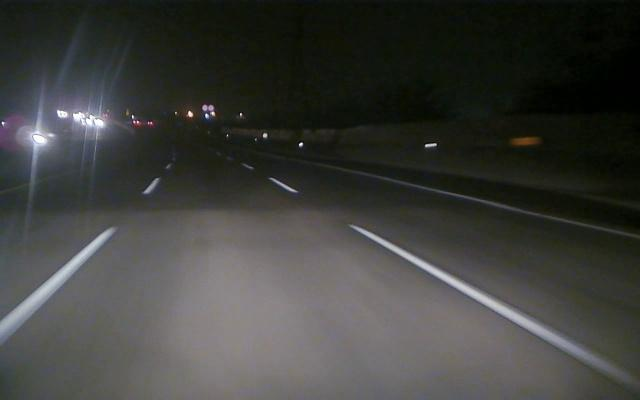lane: (272, 178, 638, 388), (4, 176, 162, 342), (358, 171, 639, 241)
